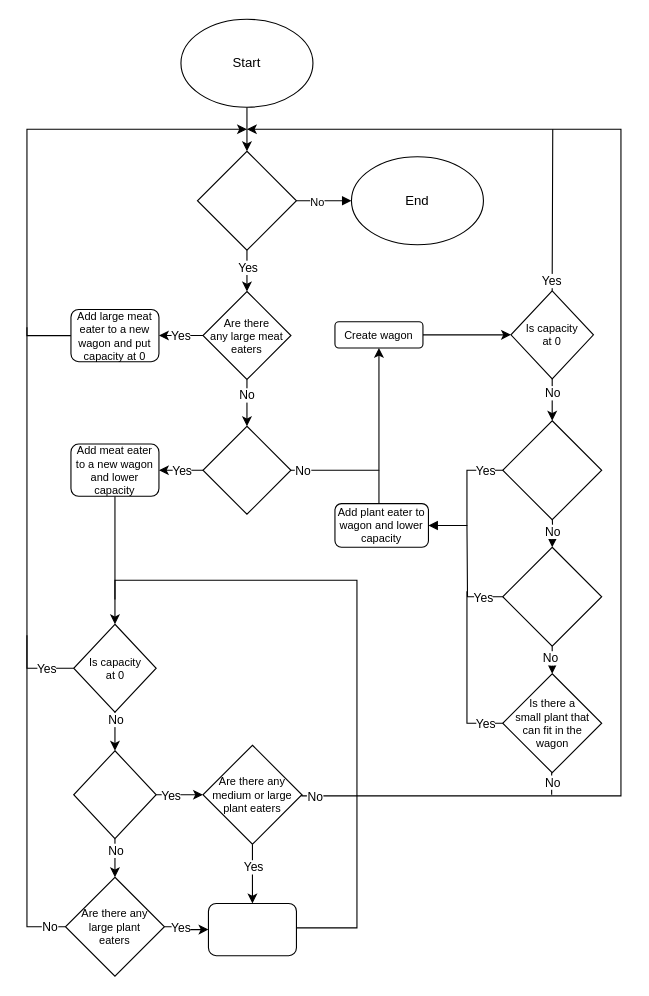
The diagram is 649 pixels wide and 996 high, and some of its shapes have lost their labels. Here are the shapes that lost their labels. From the top down, the centre of each, then its label:
At point (246, 200): "Are there any animals left".
At point (246, 469): "Are there any meat eaters".
At point (552, 470): "Is there a large plant that can fit in the wagon".
At point (552, 596): "Is there a medium plant that can fit in the wagon".
At point (114, 794): "Is the meat eater small".
At point (251, 929): "Add plant eater and lower capacity".
